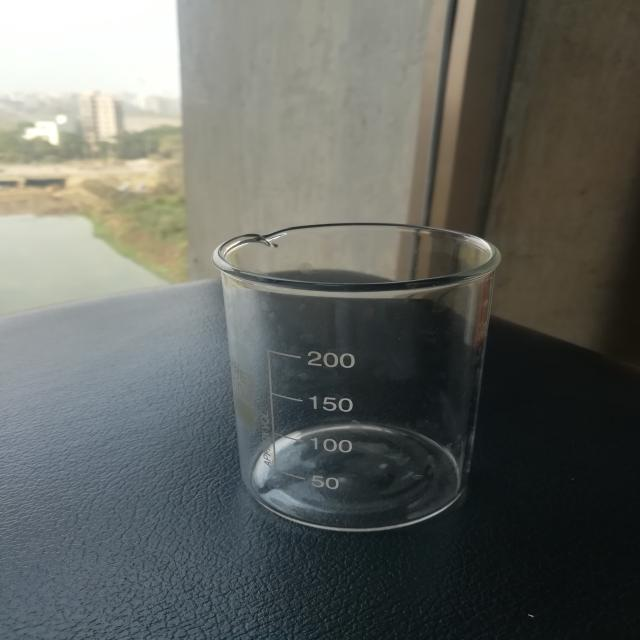Beaker: (153, 171, 562, 567)
